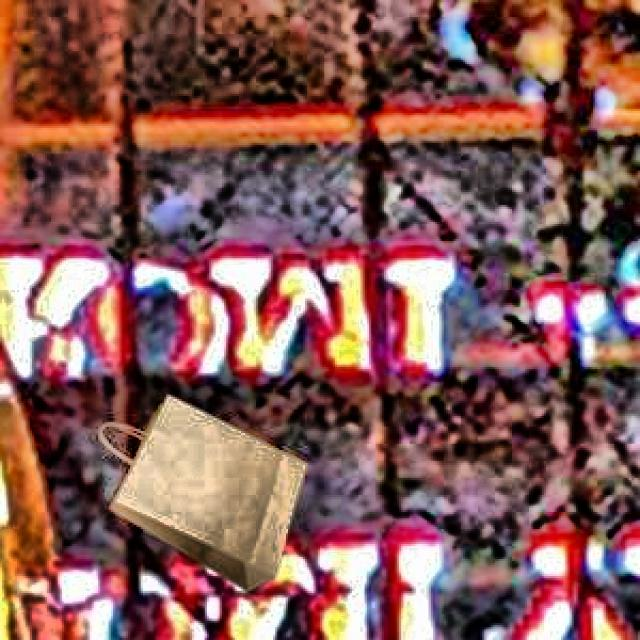Paper-bag: (99, 383, 320, 601)
